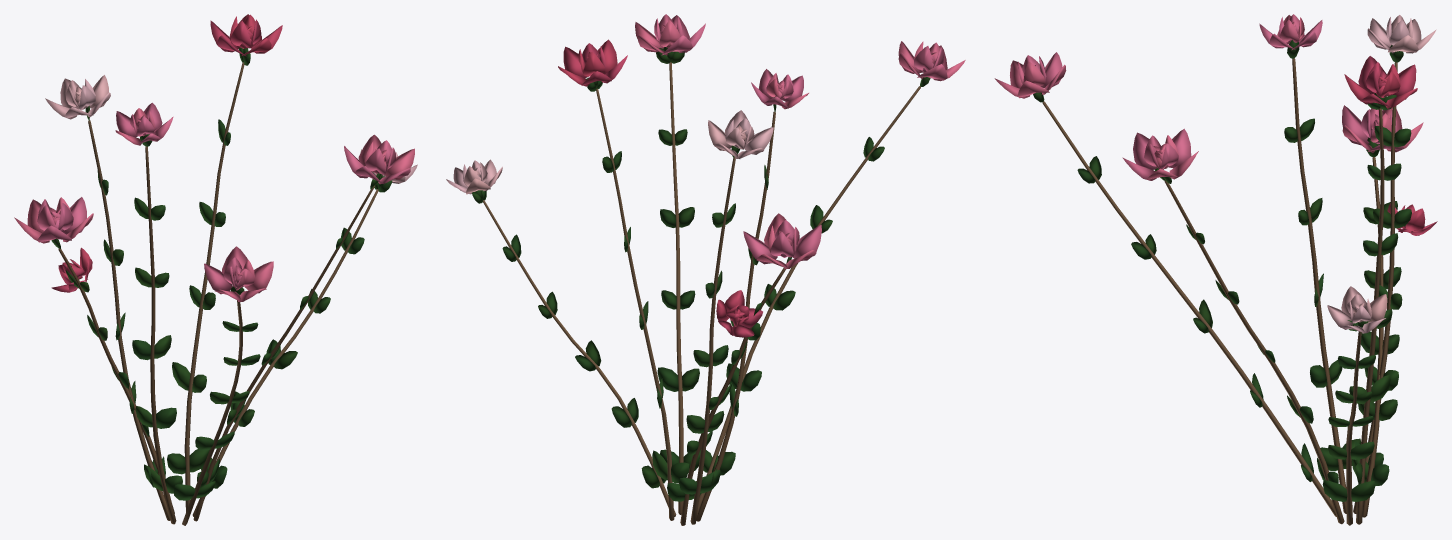
File: bed_rose_bush.glb
3 views of the same model, side by side, from view 1: azimuth 30°, elevation 25°; view 2: azimuth 150°, elevation 25°; view 3: azimuth 270°, elevation 25° (orthographic). The views are drawn at different scales.
Parts seen in each view (by area): view 1: Sammel Pflanze, Sammel Holz; view 2: Sammel Pflanze, Sammel Holz; view 3: Sammel Pflanze, Sammel Holz.
Part boxes in pixels (x1=…): Sammel Pflanze: x1=14, y1=14, x2=417, y2=500; Sammel Holz: x1=58, y1=62, x2=378, y2=525; Sammel Pflanze: x1=446, y1=14, x2=965, y2=501; Sammel Holz: x1=483, y1=62, x2=920, y2=525; Sammel Pflanze: x1=994, y1=14, x2=1437, y2=501; Sammel Holz: x1=1042, y1=58, x2=1397, y2=525.
Size of the model in its own units: 0.6576 by 0.7754 by 0.6298.
